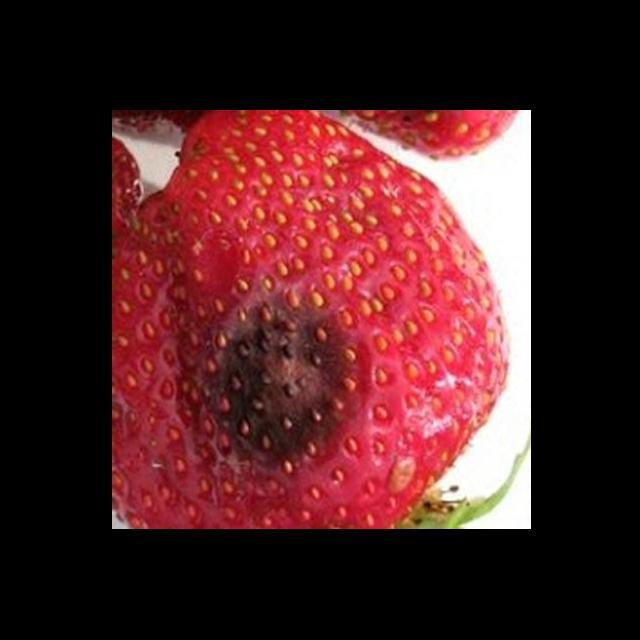Anthracnose Fruit Rot: (183, 286, 370, 480)
